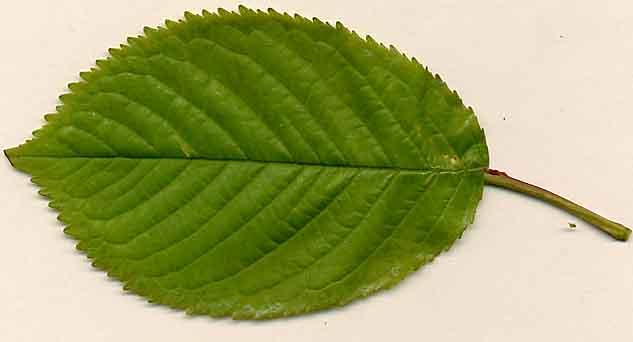Cherry leaf: (1, 6, 543, 332)
